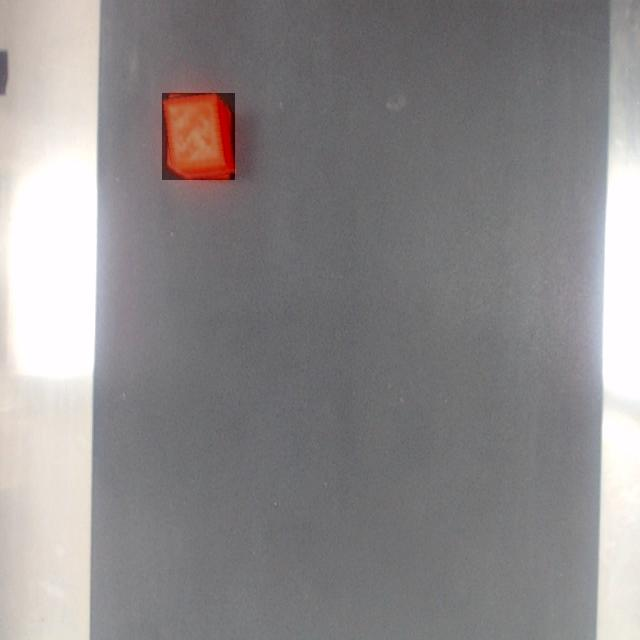Rojo: (162, 93, 235, 180)
